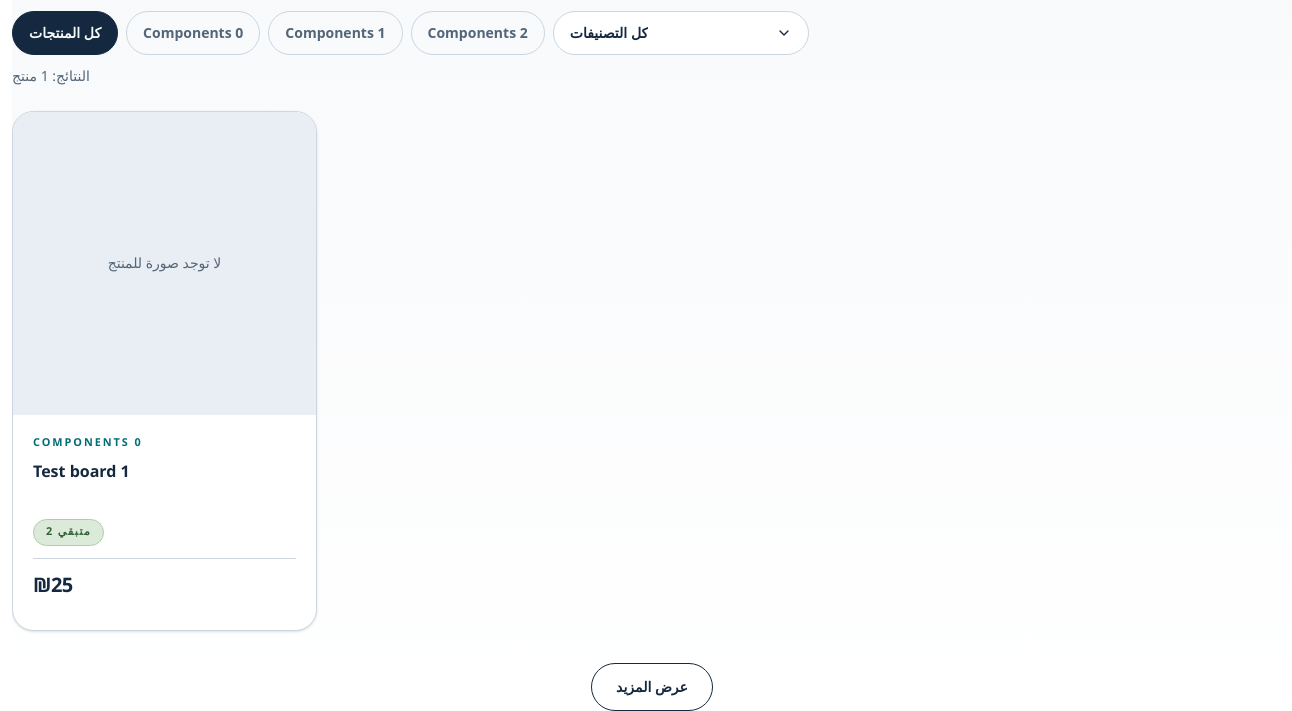
Test: catalog replacement recovery in ar › keeps products and the same-page append retry after http failure
Expected: the link "Test board 1" is shown, [12,111,317,631]
Click the button "عرض المزيد" at x=652, y=687, box [591,663,713,710]
(page scrolled)
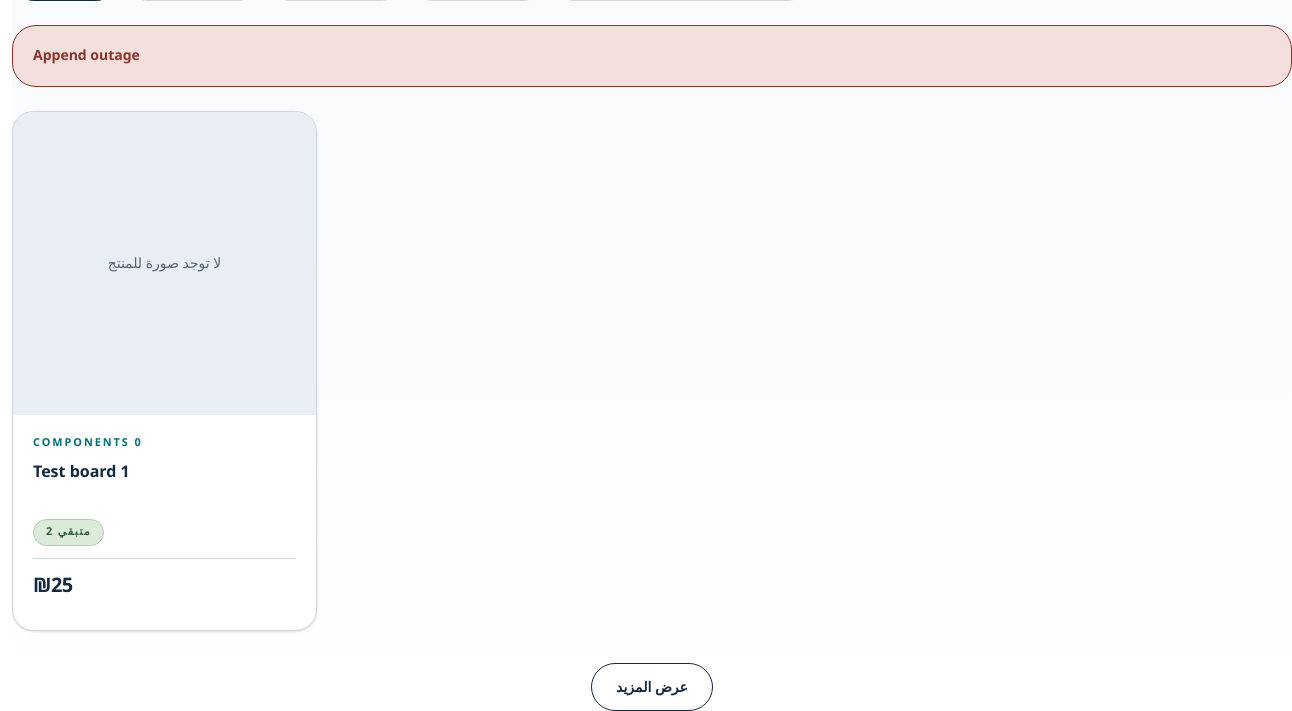
Expected: the link "Test board 1" is shown, [12,111,317,631]
Now the text "Append outage" is shown, box [33,46,140,65]
Click the button "عرض المزيد" at x=652, y=687, box [591,663,713,710]
(page scrolled)
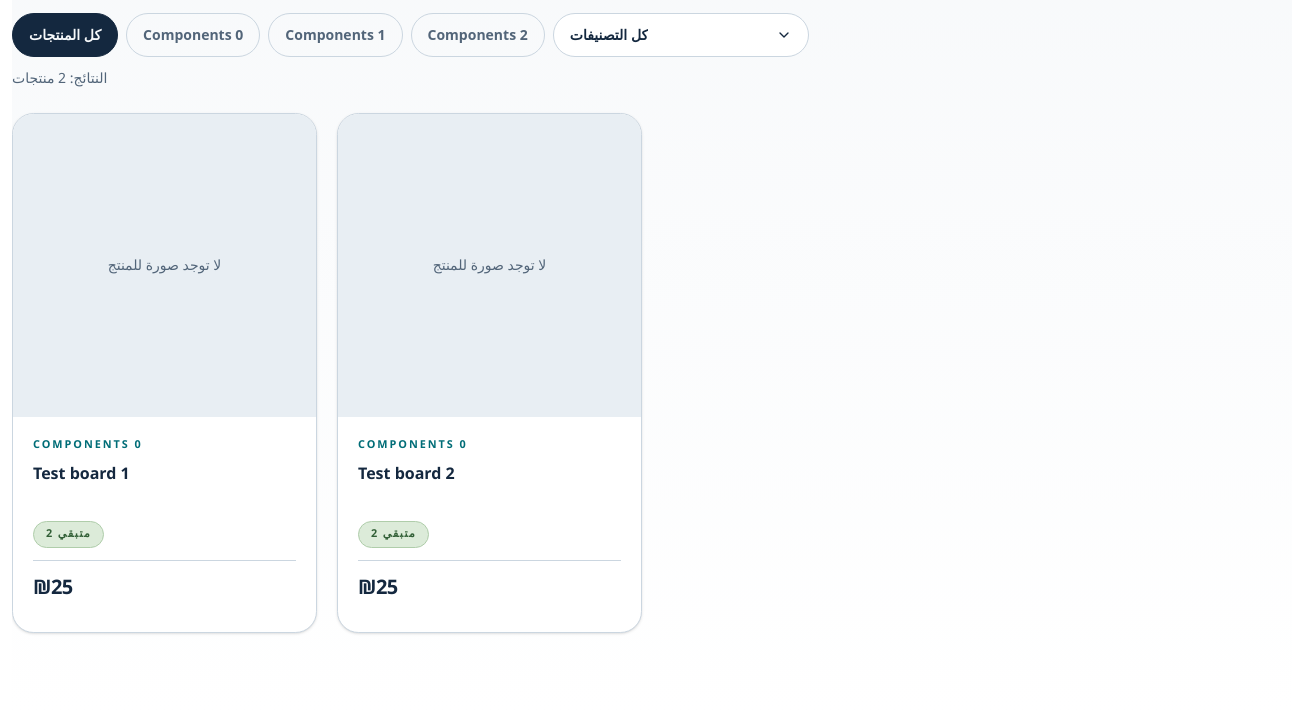
Expected: the link "Test board 1" is shown, [12,113,317,633]
Now the link "Test board 2" is shown, box [337,113,642,633]
Now the message "Append outage" is gone
